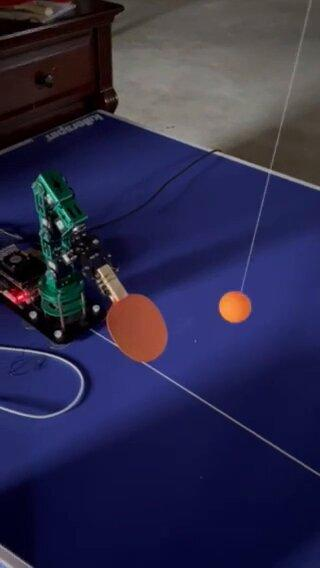oball: (219, 291, 255, 321)
